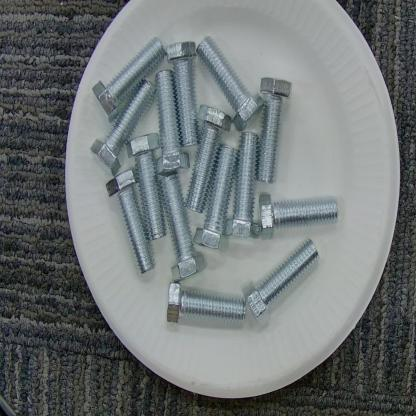FOD: (95, 35, 341, 329)
